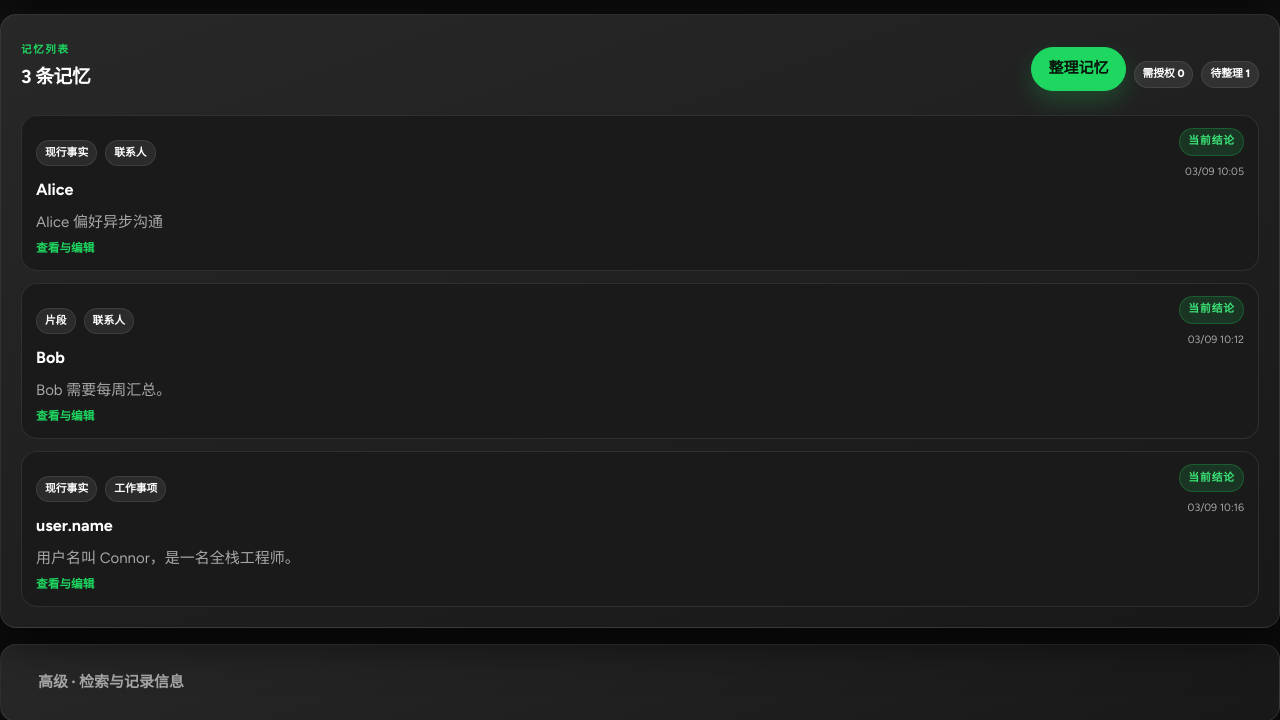
Test case: MemoryPage › 点击记录卡片弹出详情 modal
(page scrolled)
Click the button "Bob" at (640, 361), box [21,283,1259,439]
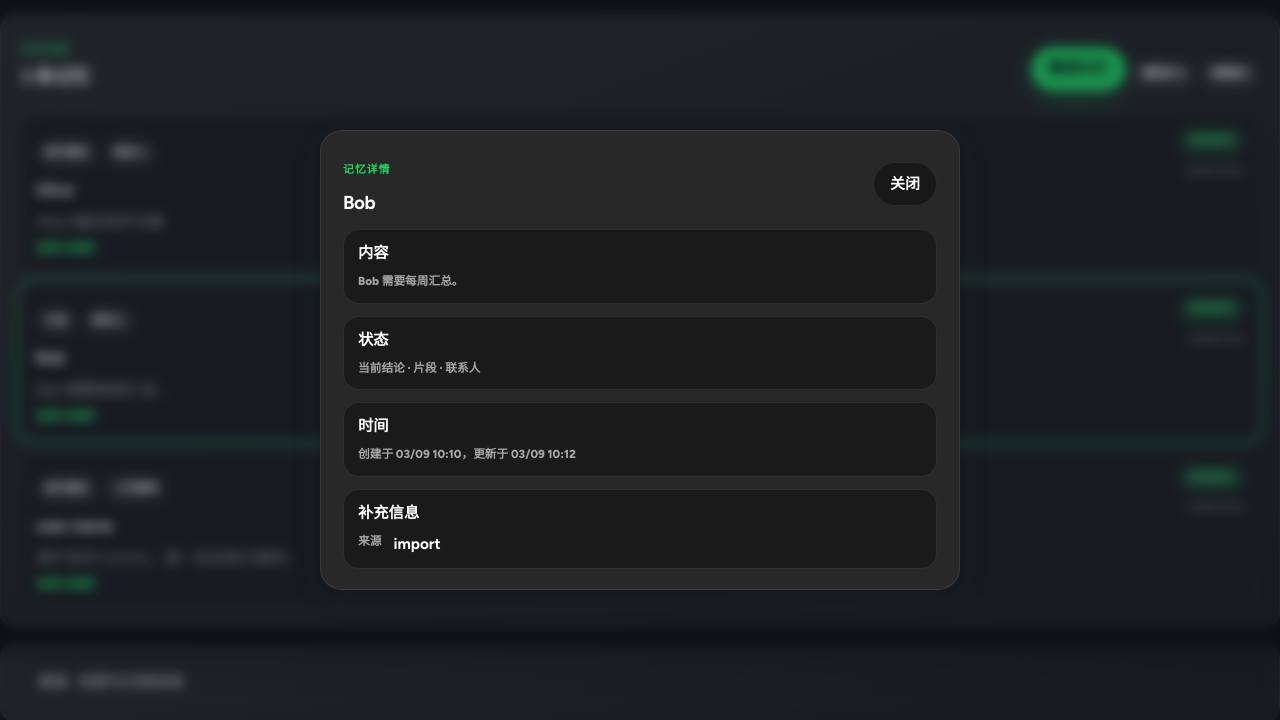
Expected: the dialog "Bob" is shown, [320,130,960,590]
Expected: the text "Bob 需要每周汇总。" is shown, [358,274,464,288]
// 关闭 modal
Click the button "关闭" at (905, 184), box [873,162,937,206]
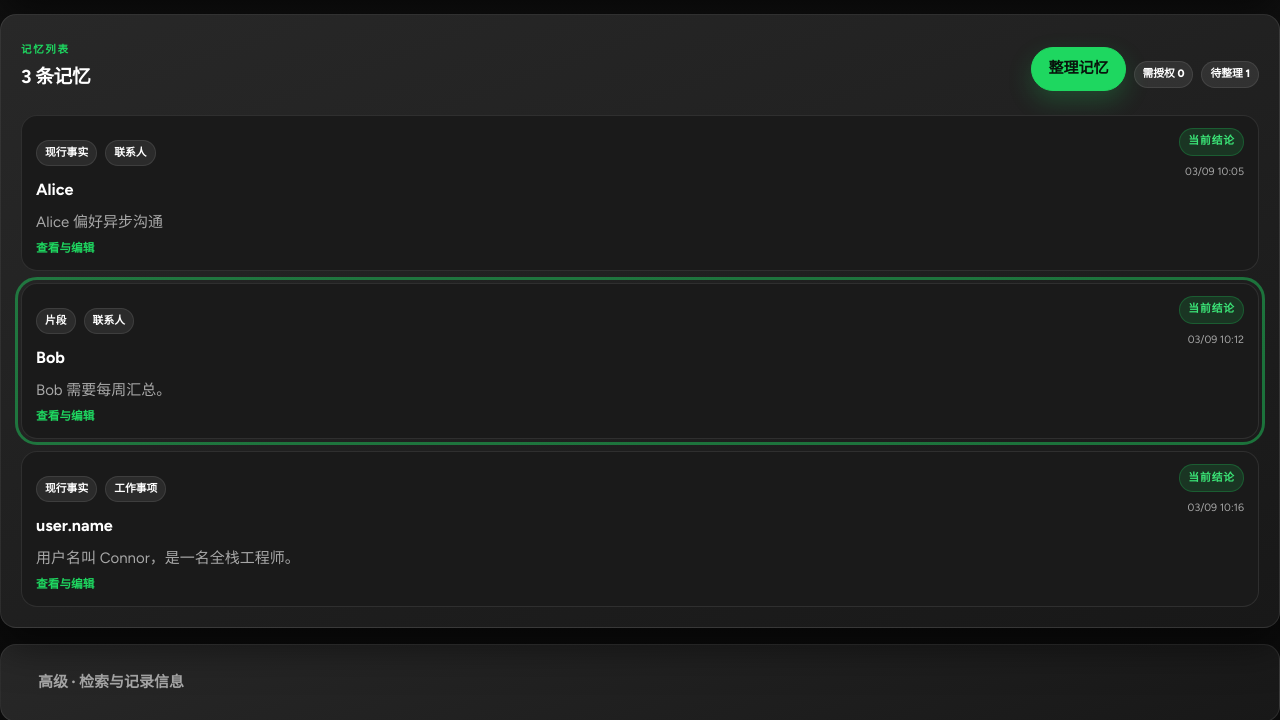
Expected: the button "关闭" is gone
